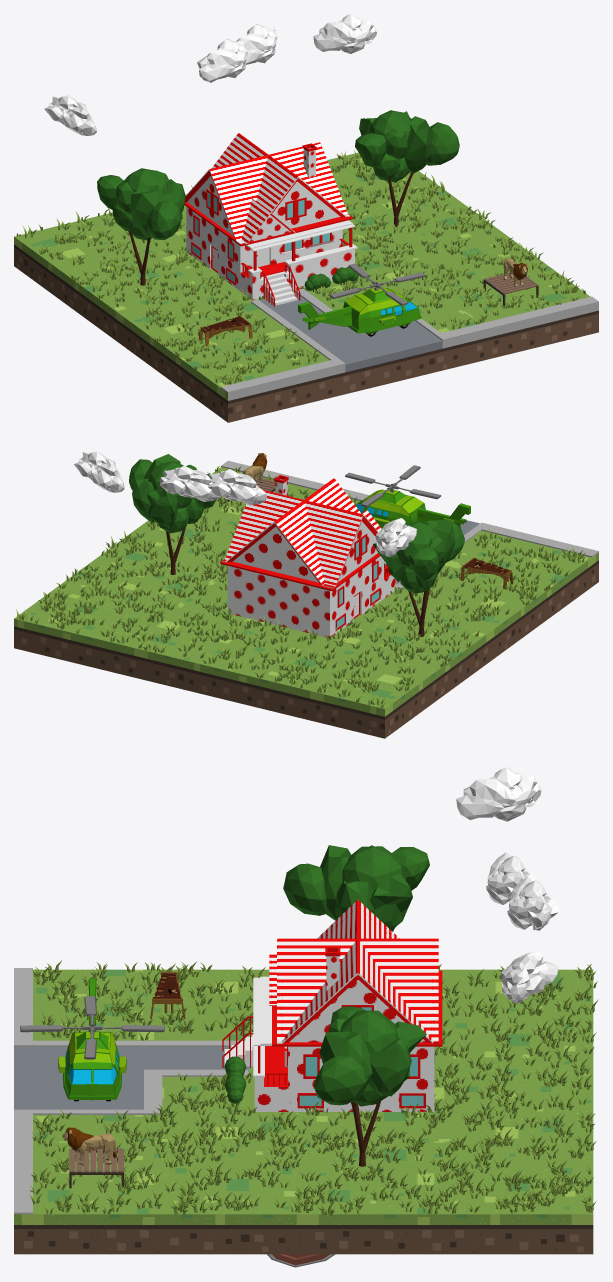
3 renders of one model, top to bottom at view 1: azimuth 30°, elevation 25°; view 2: azimuth 150°, elevation 25°; view 3: azimuth 270°, elevation 25°, orthographic. The views are drawn at different scales.
Parts seen in each view (by area): view 1: Cube.006, Cube.196, Circle.012_Grass_0.192, Cube.007, tree, tree.001, VEHICLES_HELICOPTER, Cube.009, OBJRANDOM_MARIMBA; view 2: Cube.006, Cube.196, Circle.012_Grass_0.192, Cube.007, tree.001, tree, VEHICLES_HELICOPTER, OBJRANDOM_MARIMBA, ANIMAL_LEON; view 3: Cube.006, Circle.012_Grass_0.192, Cube.196, tree, Cube.007, tree.001, VEHICLES_HELICOPTER, Cube.009, ANIMAL_LEON, OBJRANDOM_MARIMBA.
Part boxes in pixels (left/top/right/bottom): Cube.006: left=14, top=152, right=598, bottom=422; Cube.196: left=184, top=133, right=357, bottom=306; Circle.012_Grass_0.192: left=16, top=150, right=585, bottom=384; Cube.007: left=44, top=14, right=376, bottom=135; tree: left=355, top=110, right=459, bottom=227; tree.001: left=97, top=168, right=185, bottom=285; VEHICLES_HELICOPTER: left=298, top=263, right=425, bottom=336; Cube.009: left=483, top=273, right=538, bottom=305; OBJRANDOM_MARIMBA: left=199, top=315, right=252, bottom=346; Cube.006: left=14, top=460, right=598, bottom=738; Cube.196: left=220, top=475, right=396, bottom=637; Circle.012_Grass_0.192: left=16, top=466, right=585, bottom=708; Cube.007: left=74, top=451, right=416, bottom=557; tree.001: left=373, top=519, right=464, bottom=636; tree: left=129, top=454, right=215, bottom=574; VEHICLES_HELICOPTER: left=345, top=465, right=470, bottom=528; OBJRANDOM_MARIMBA: left=460, top=557, right=513, bottom=589; ANIMAL_LEON: left=243, top=453, right=267, bottom=482; Cube.006: left=14, top=968, right=593, bottom=1254; Circle.012_Grass_0.192: left=29, top=960, right=598, bottom=1215; Cube.196: left=222, top=900, right=442, bottom=1111; tree: left=313, top=1006, right=426, bottom=1166; Cube.007: left=456, top=767, right=558, bottom=1003; tree.001: left=283, top=845, right=429, bottom=931; VEHICLES_HELICOPTER: left=20, top=978, right=164, bottom=1101; Cube.009: left=69, top=1148, right=123, bottom=1188; ANIMAL_LEON: left=62, top=1126, right=116, bottom=1164; OBJRANDOM_MARIMBA: left=150, top=972, right=185, bottom=1019.
Size of the model in its own units: 4071 by 2892 by 4040.
Materials: 39 (4 with a texture image).
